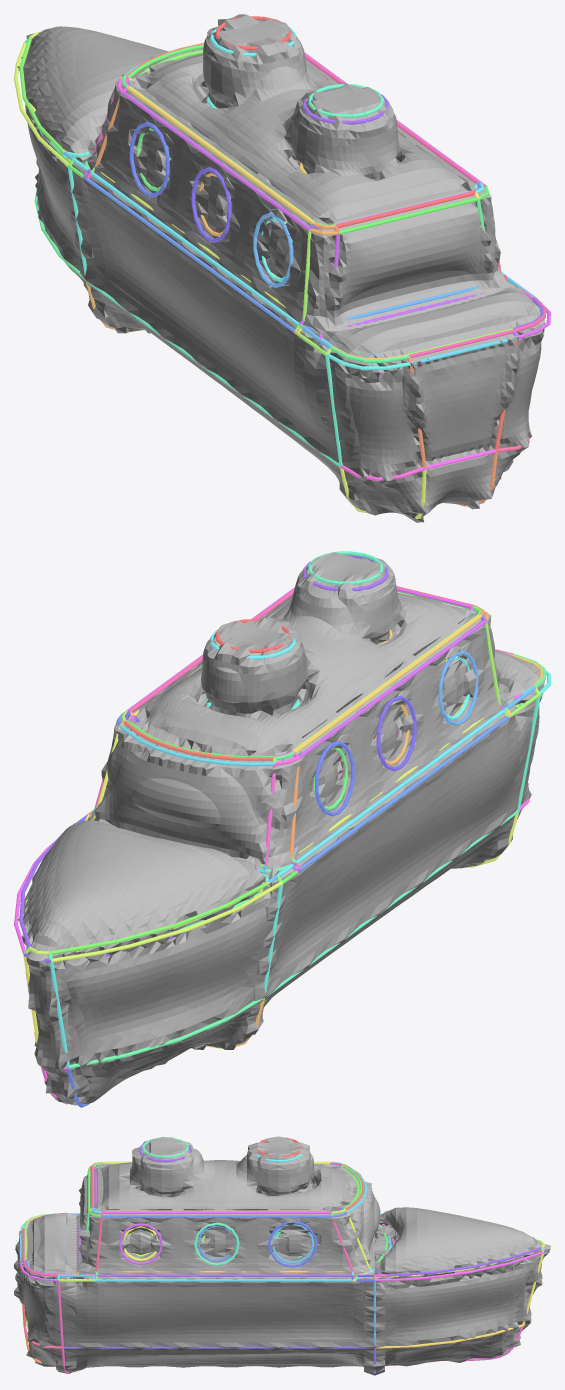
File: onshape_boat.gltf
The picture shows the model from 3 angles, top to bottom: view 1: azimuth 30°, elevation 25°; view 2: azimuth 150°, elevation 25°; view 3: azimuth 270°, elevation 25°; orthographic projection. The views are drawn at different scales.
Size of the model in its own units: 0.257 by 0.4026 by 0.9014.
